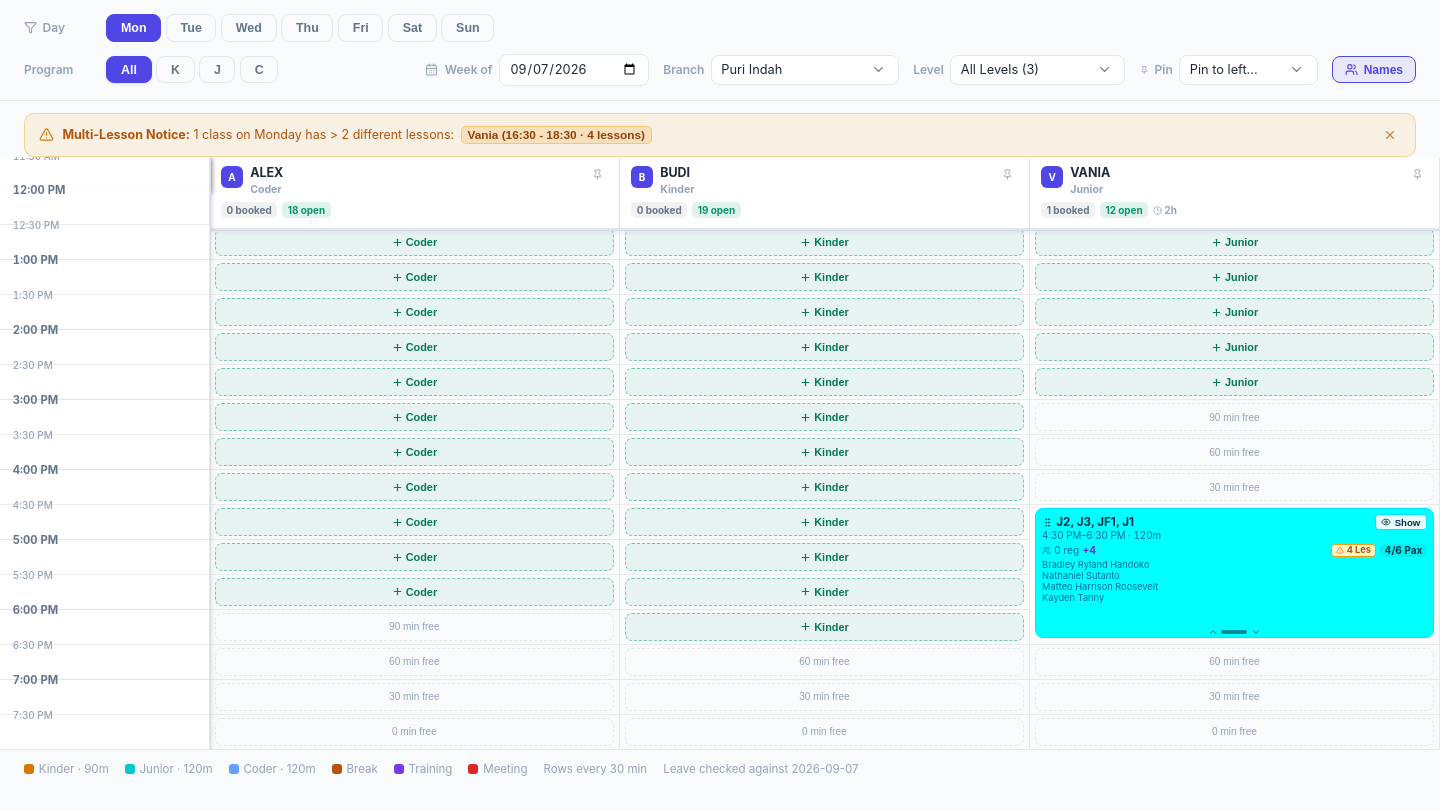
Test: ScheduleGrid UI Integration (Multi-Lesson & Capacity Notifications) › renders multi-lesson alert badge on Junior class card and preview drawer
(page scrolled)
Expected: the element with test id "schedule-grid-multi-lesson-day-notice" is shown, [24,113,1416,157]
Expected: the element with test id "schedule-grid-multi-lesson-day-notice" shows "Multi-Lesson Notice:", [62,127,190,142]
Click card to open preview drawer
Click the button with test id "multi-lesson-badge" at (1095, 522), box [1035,508,1434,638]
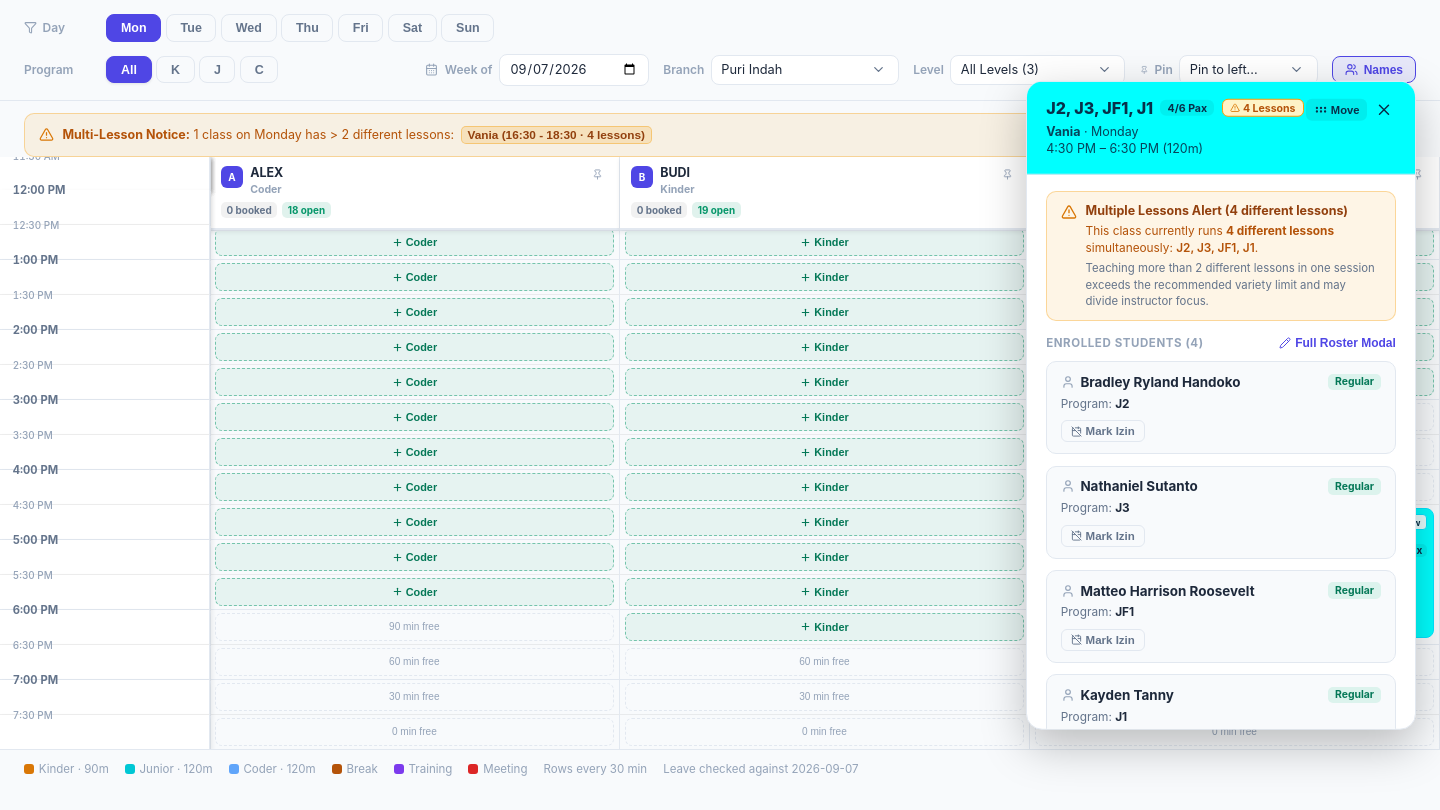
Now the element with test id "preview-multi-lesson-badge" reads "4 Lessons", box [1222,98,1304,117]
Now the element with test id "preview-multi-lesson-alert" shows "Multiple Lessons Alert", box [1086,203,1230,218]
Now the element with test id "preview-multi-lesson-alert" shows "4 different lessons", box [1046,190,1396,321]
